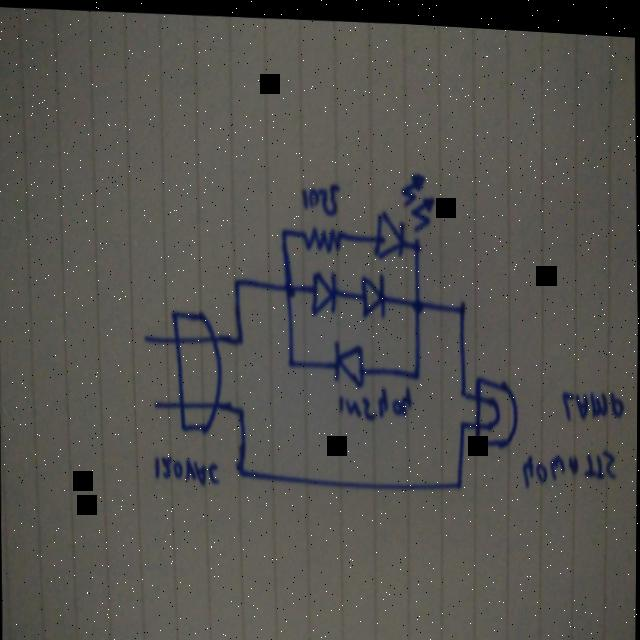diode: (367, 156, 441, 261), (329, 333, 369, 384), (354, 265, 389, 321), (306, 262, 342, 316)
junction: (452, 292, 472, 315), (407, 289, 425, 311), (231, 456, 249, 478), (229, 326, 247, 347), (278, 274, 296, 295), (283, 348, 299, 367), (234, 397, 248, 418), (230, 267, 242, 288), (452, 470, 466, 488), (410, 360, 424, 378), (276, 220, 288, 240), (457, 409, 469, 428), (456, 380, 468, 394)
resistor: (299, 218, 343, 252)
terminal: (138, 327, 154, 346), (149, 394, 163, 410)
text: (518, 431, 619, 488), (334, 377, 415, 421), (557, 375, 624, 421), (149, 451, 220, 487), (293, 174, 343, 217)
